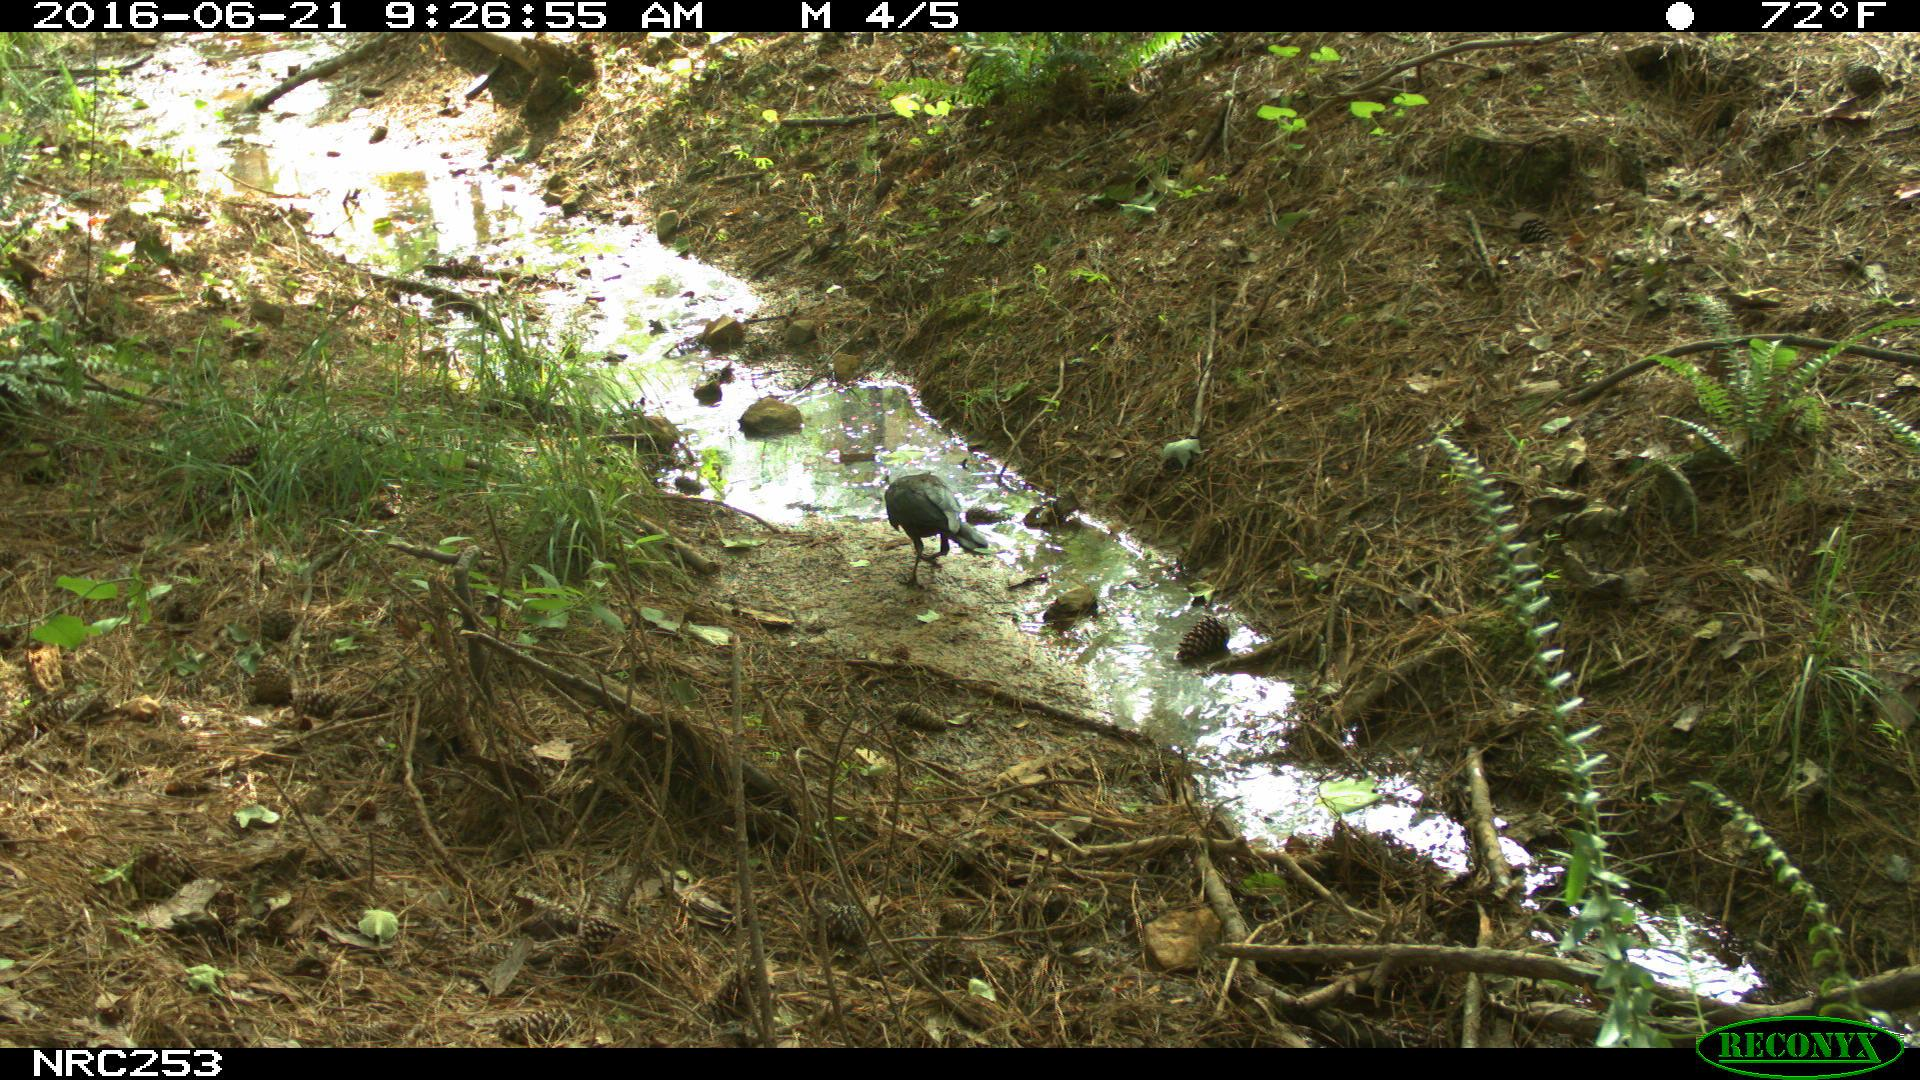Animal: (886, 472, 986, 589)
